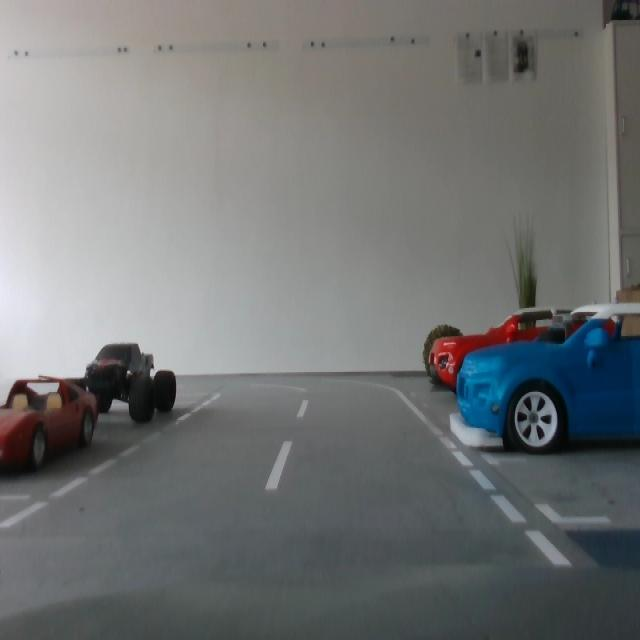car: (457, 304, 640, 454), (430, 305, 640, 408), (1, 374, 99, 473), (85, 342, 177, 424)
potted plant: (505, 212, 540, 355), (423, 325, 468, 384)
